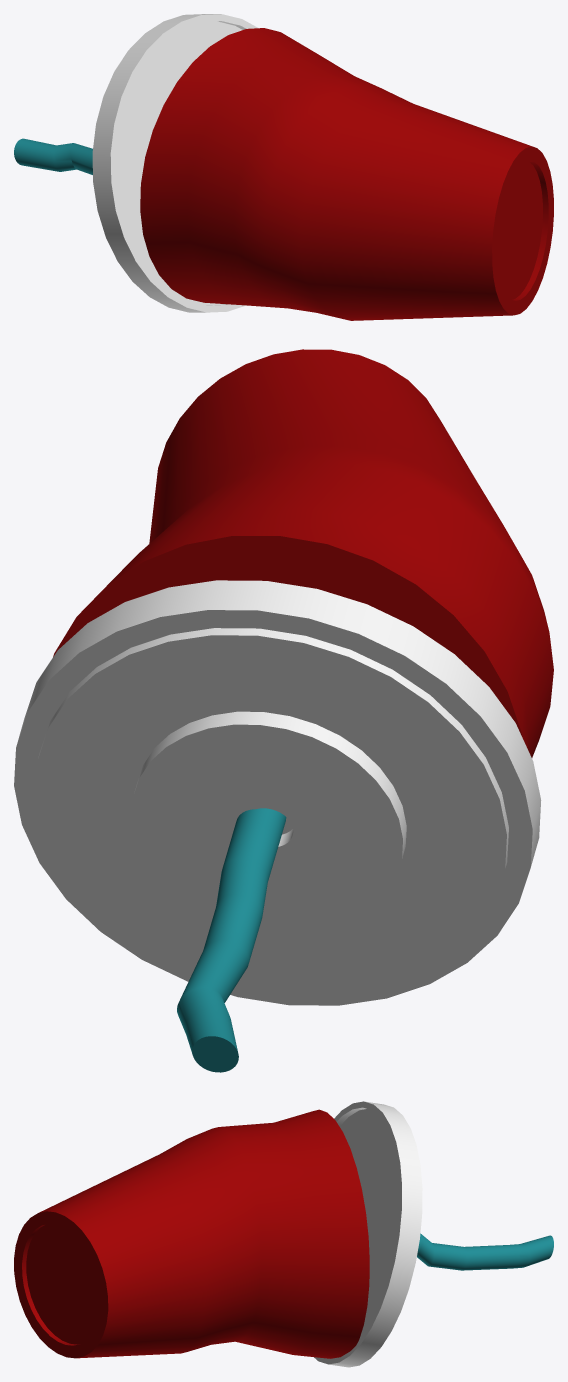
Rendered from CupBroken.fbx.
The picture shows the model from 3 angles, top to bottom: view 1: azimuth 30°, elevation 25°; view 2: azimuth 150°, elevation 25°; view 3: azimuth 270°, elevation 25°; orthographic projection. The views are drawn at different scales.
Parts seen in each view (by area): view 1: RubbishCup; view 2: RubbishCup; view 3: RubbishCup.
Boxes of the visible parts, x1,y1,x2,y2 form: RubbishCup: (14, 14, 553, 320); RubbishCup: (14, 349, 553, 1072); RubbishCup: (14, 1101, 553, 1367).
Size of the model in its own units: 0.3833 by 0.2922 by 0.6031.
